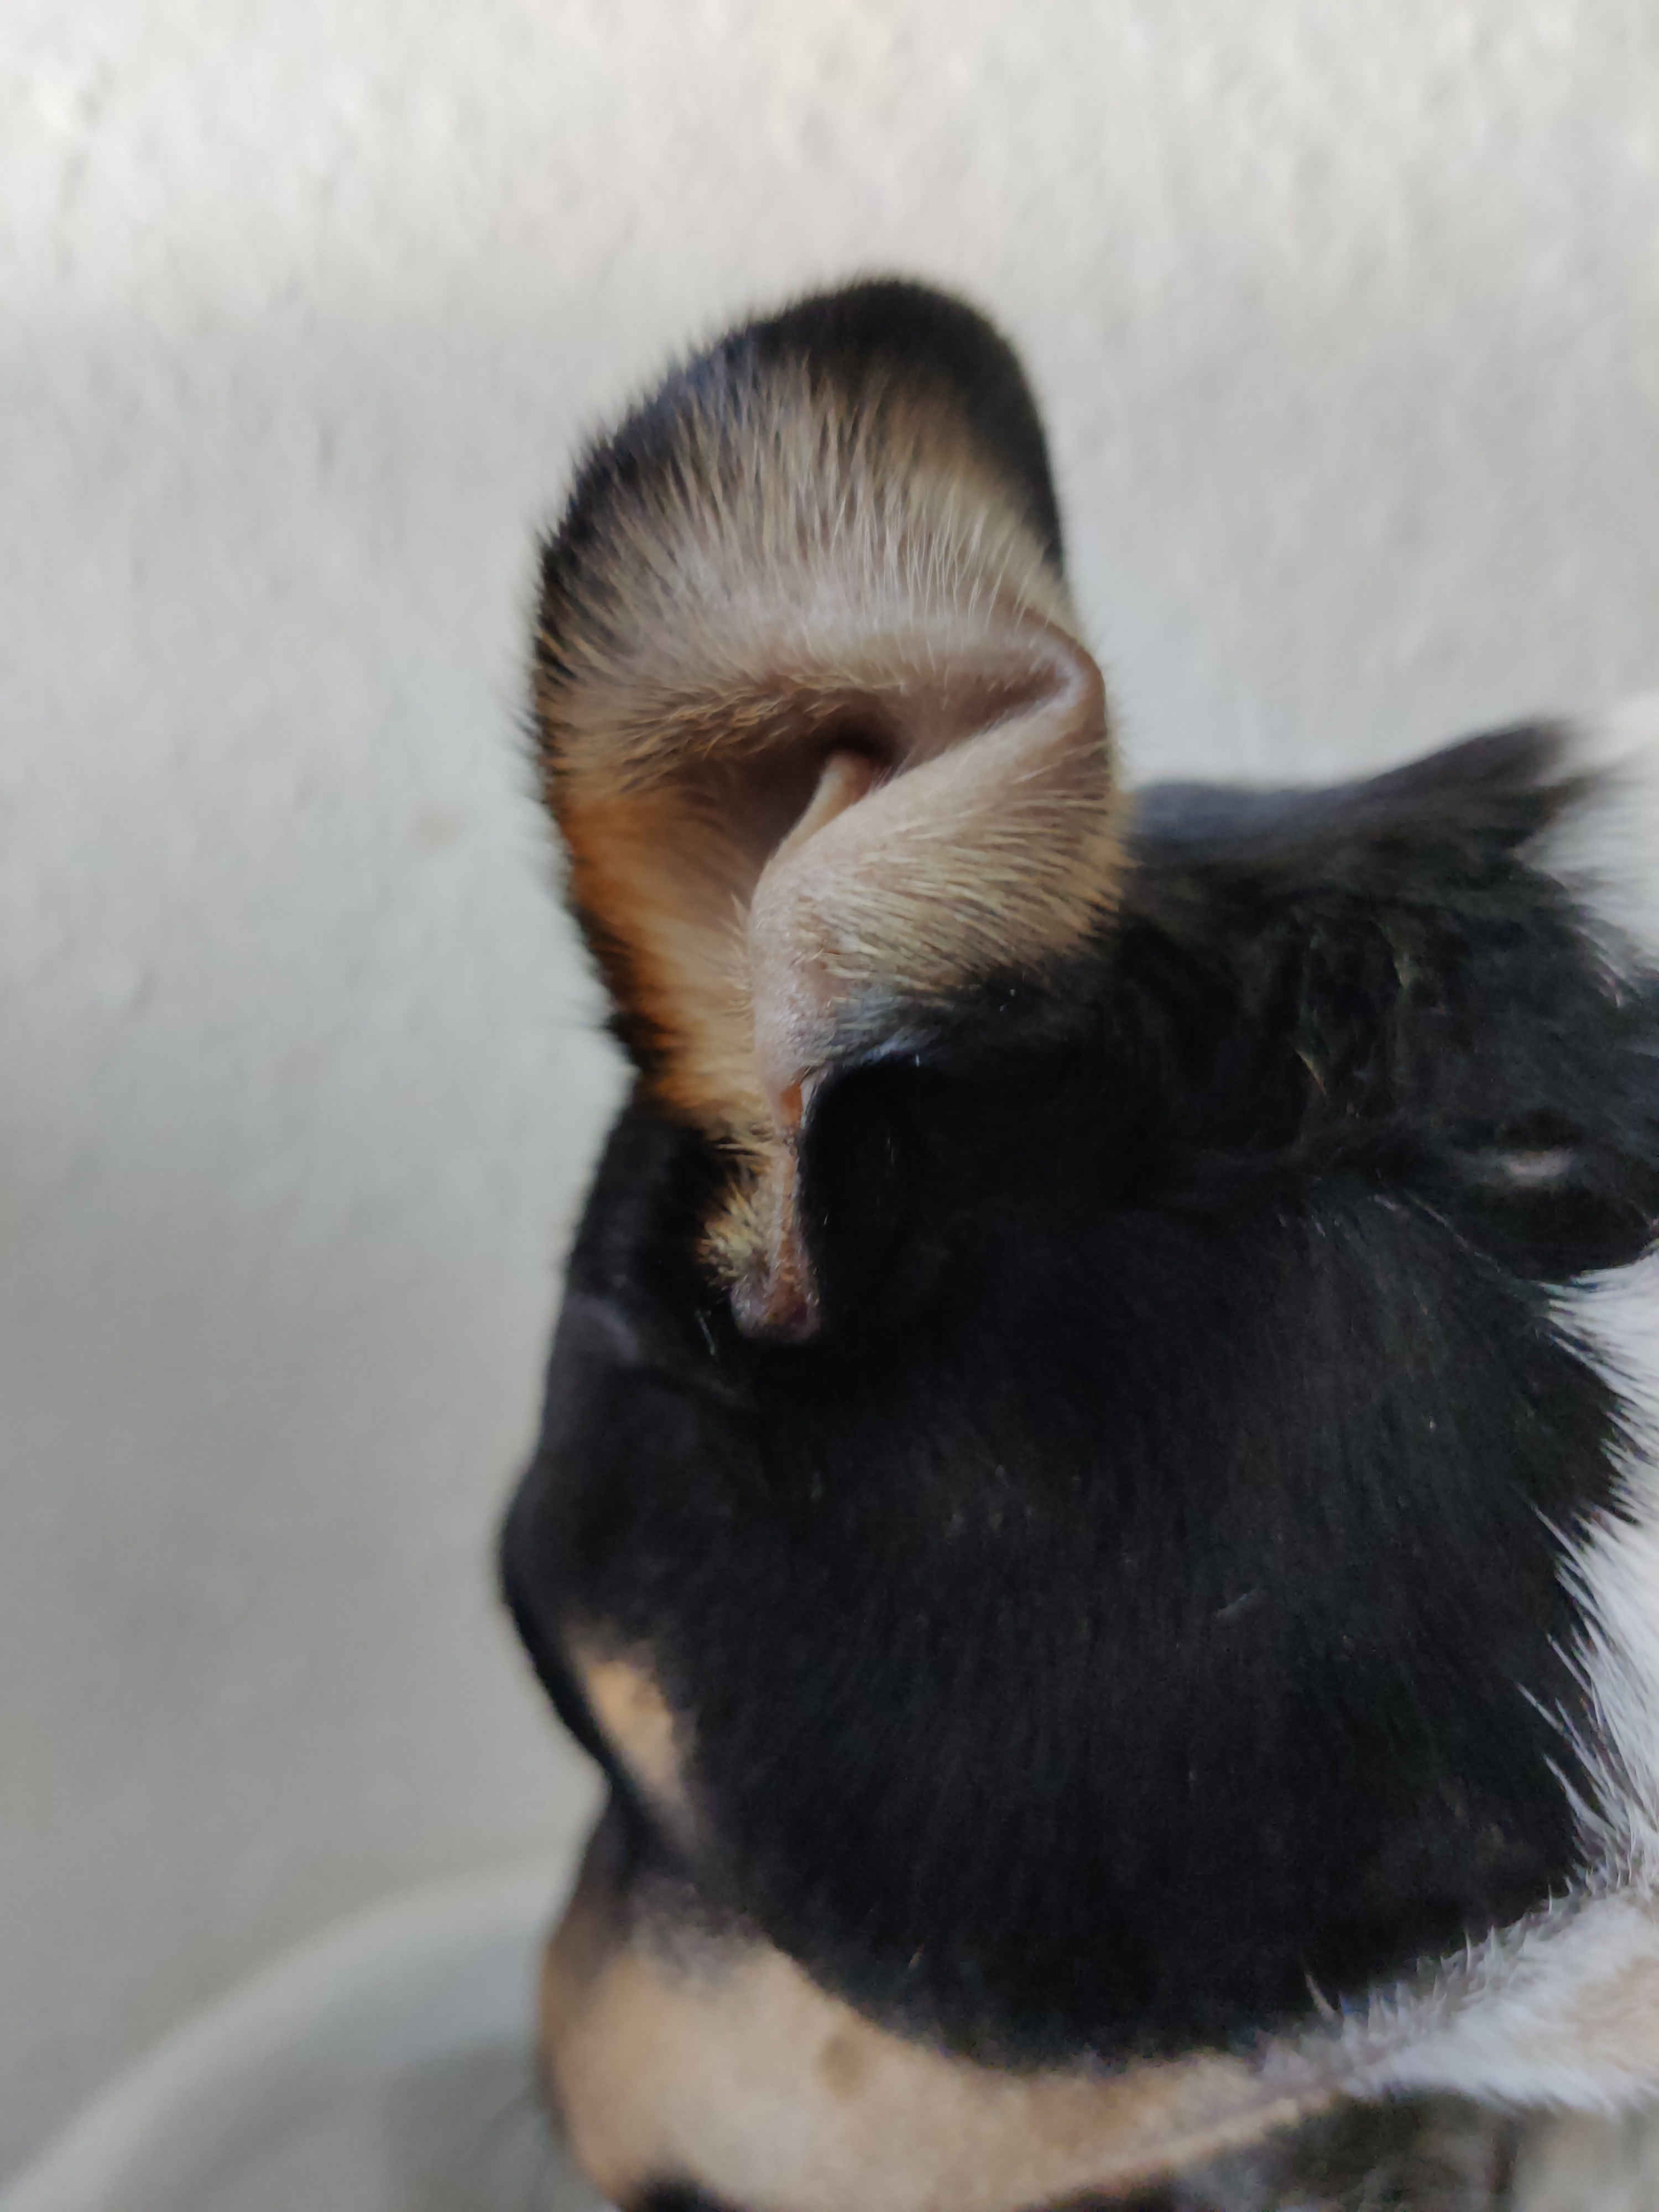Dog: (0, 266, 1659, 2212)
